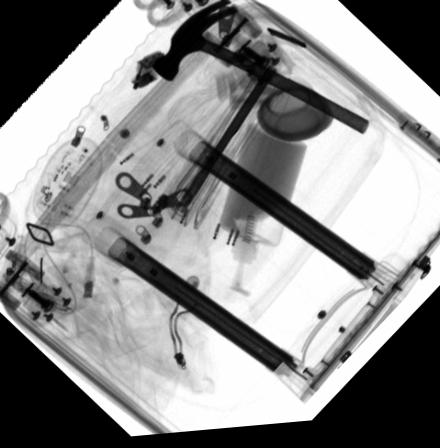Hammer: (148, 1, 368, 140)
